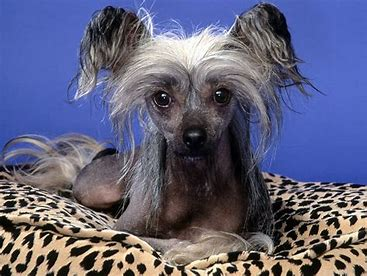dog: (61, 12, 315, 242)
